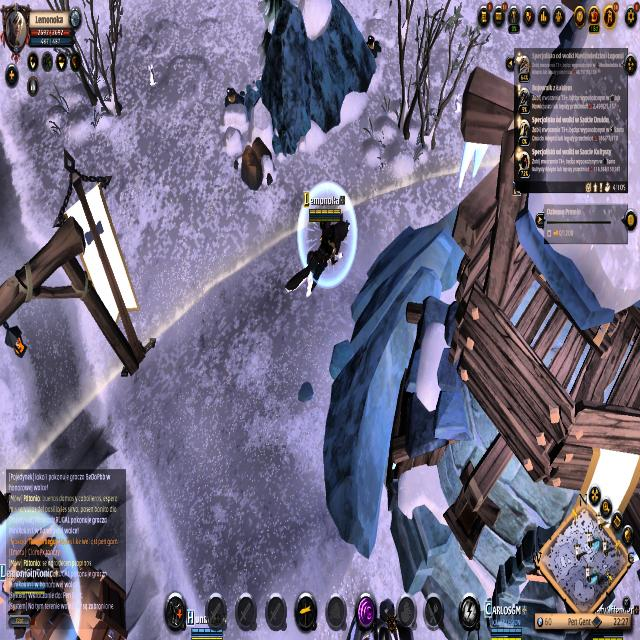ore tier 2: (222, 82, 243, 116), (363, 30, 382, 62)
rock tier 2: (241, 132, 276, 198)
